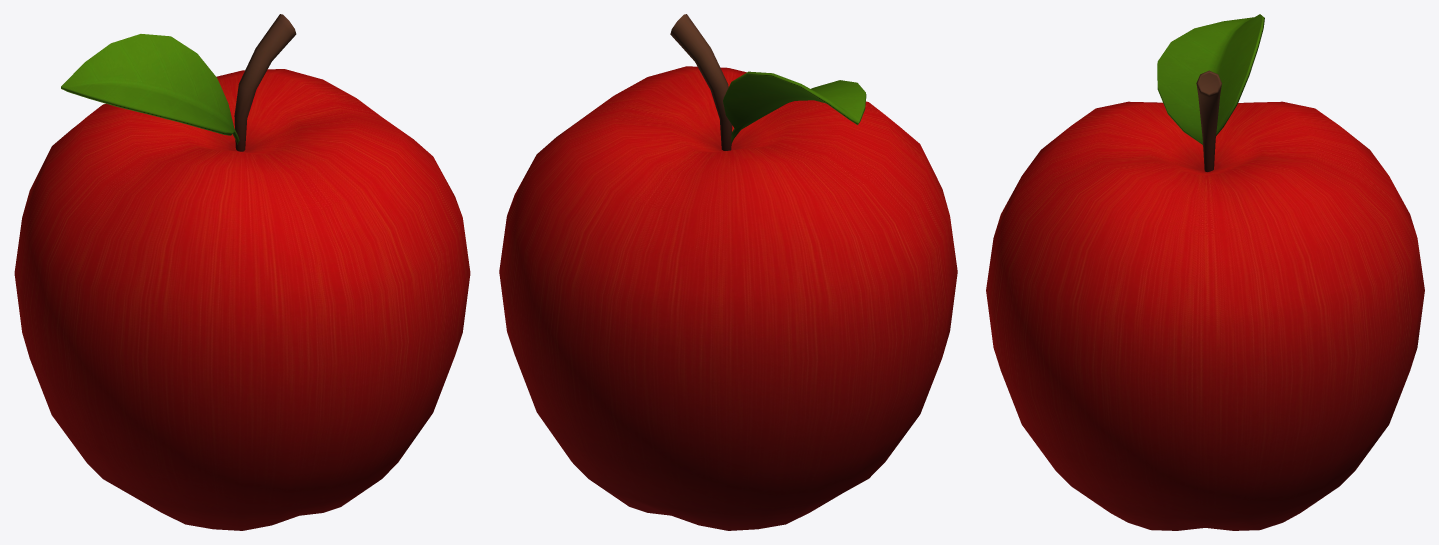
Rendered from Apple.fbx.
The picture shows the model from 3 angles, left to right: view 1: azimuth 30°, elevation 25°; view 2: azimuth 150°, elevation 25°; view 3: azimuth 270°, elevation 25°; orthographic projection. The views are drawn at different scales.
Visible parts, largest first — view 1: Apple; view 2: Apple; view 3: Apple.
Boxes of the visible parts, <box> form: Apple: <box>14,14,470,530</box>; Apple: <box>499,14,957,530</box>; Apple: <box>986,14,1424,530</box>.
Size of the model in its own units: 27.32 by 31.16 by 27.32.
